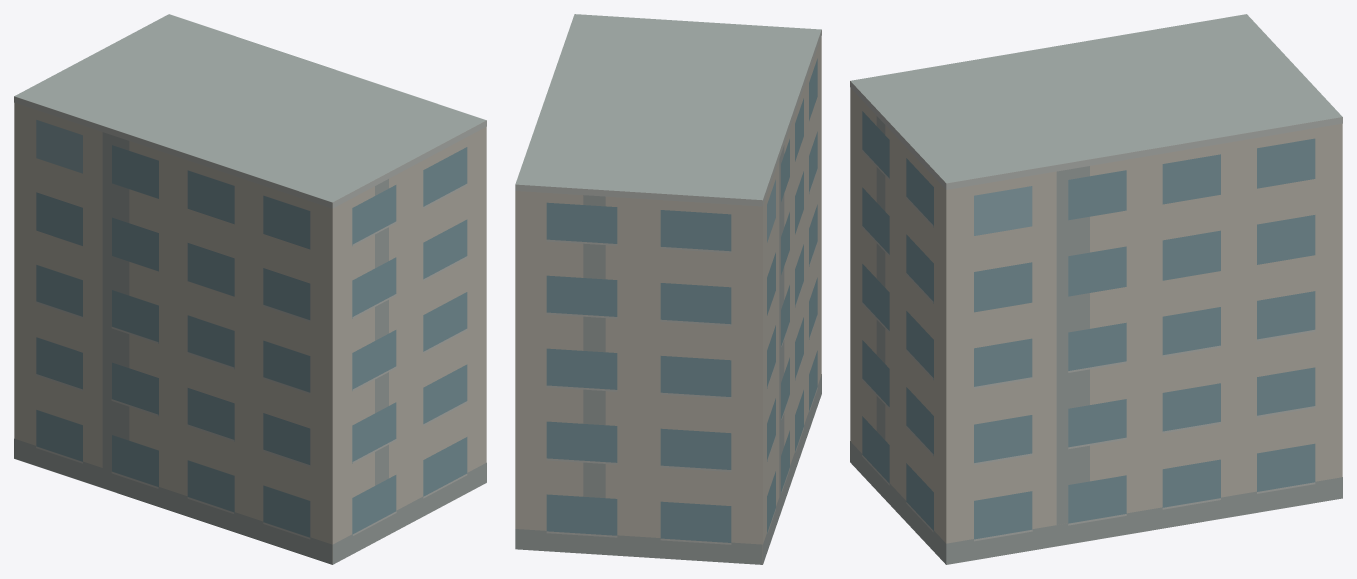
The model's file is survey-upis-32889163.glb.
3 renders of one model, left to right at view 1: azimuth 30°, elevation 25°; view 2: azimuth 150°, elevation 25°; view 3: azimuth 270°, elevation 25°, orthographic. The views are drawn at different scales.
Visible parts, largest first — view 1: survey-upis-32889163.tmp; view 2: survey-upis-32889163.tmp; view 3: survey-upis-32889163.tmp.
Boxes of the visible parts, <box> form: survey-upis-32889163.tmp: <box>14,14,486,564</box>; survey-upis-32889163.tmp: <box>515,14,821,564</box>; survey-upis-32889163.tmp: <box>850,14,1342,564</box>.
Size of the model in its own units: 13.49 by 14.15 by 16.57.
